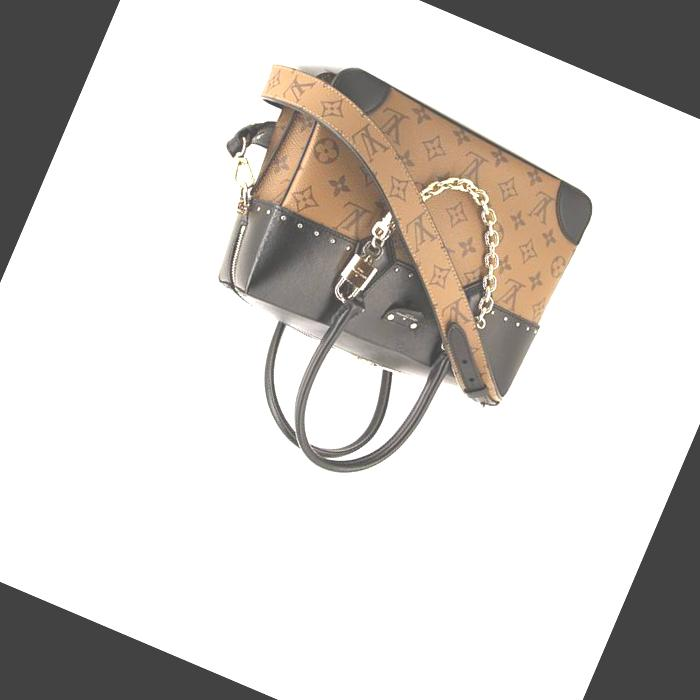LOUIS-VUITTON: (249, 74, 590, 318)
